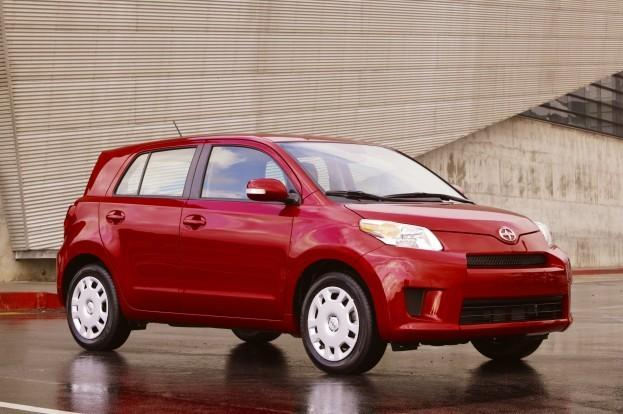Hatchback: (55, 130, 573, 375)
